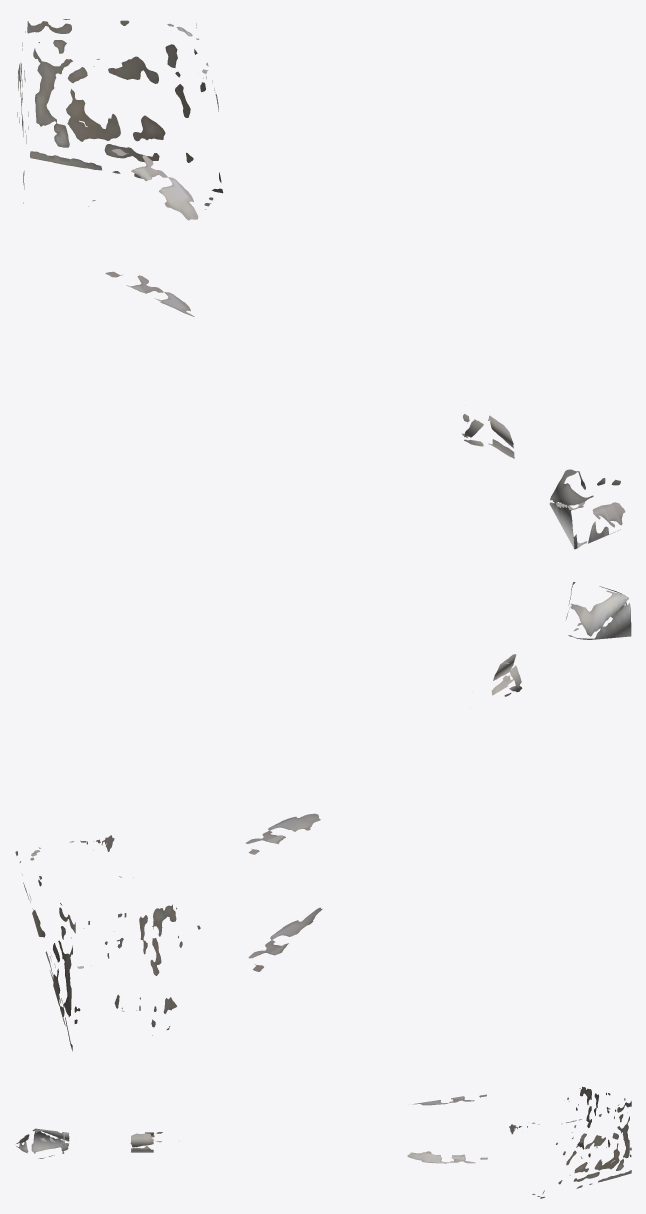
Rendered from poi_all_atat_debris_02_l2.fbx.
3 renders of one model, top to bottom at view 1: azimuth 30°, elevation 25°; view 2: azimuth 150°, elevation 25°; view 3: azimuth 270°, elevation 25°, orthographic. The views are drawn at different scales.
Parts seen in each view (by area): view 1: mesh_node; view 2: mesh_node; view 3: mesh_node.
Boxes of the visible parts, x1,y1,x2,y2 form: mesh_node: [17, 19, 625, 549]; mesh_node: [15, 582, 631, 1051]; mesh_node: [16, 1086, 631, 1198].
Size of the model in its own units: 0.8936 by 0.646 by 4.55.
